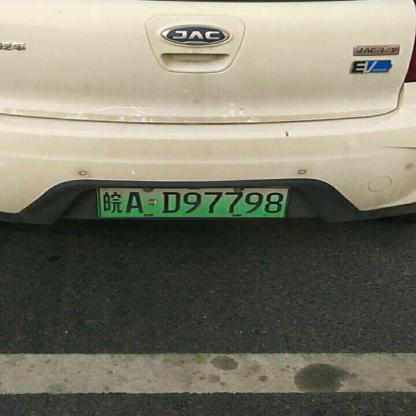lp: (97, 188, 288, 218)
